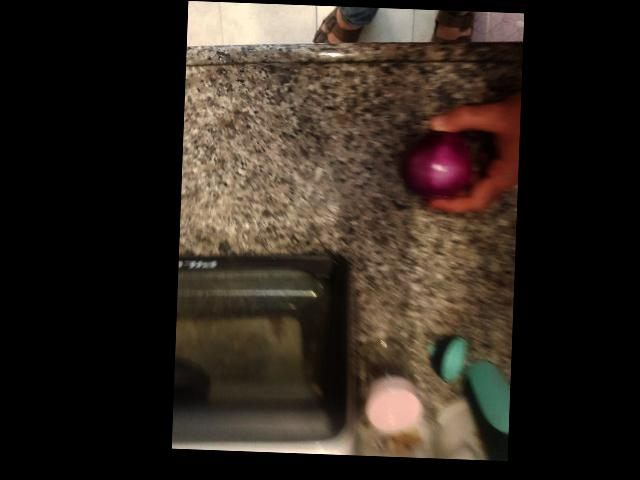onion: (180, 157, 266, 235)
